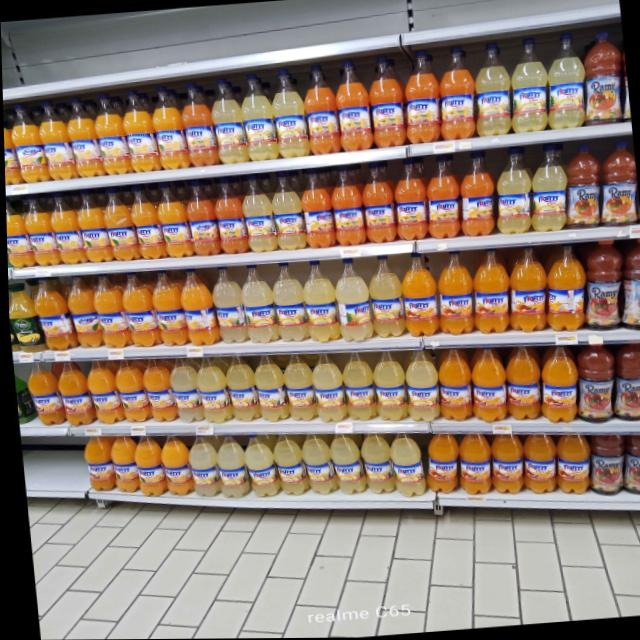ramy_plastique: (574, 236, 629, 335), (576, 26, 628, 127), (568, 337, 622, 428), (557, 141, 608, 235), (503, 37, 550, 135), (541, 35, 589, 129), (432, 47, 479, 140), (594, 139, 638, 230), (470, 43, 512, 138), (541, 245, 586, 333), (331, 58, 372, 153), (502, 249, 547, 335), (431, 251, 474, 339), (300, 60, 339, 156), (523, 148, 567, 233), (490, 149, 532, 238), (467, 253, 512, 336), (270, 65, 309, 160), (453, 152, 496, 238), (399, 53, 439, 145), (367, 59, 407, 149), (397, 253, 438, 339), (331, 257, 372, 343), (210, 76, 248, 166), (420, 156, 460, 241), (240, 74, 278, 162), (535, 347, 578, 424), (580, 432, 627, 502), (365, 256, 404, 340), (299, 259, 338, 343), (149, 84, 186, 170), (359, 162, 397, 245), (179, 81, 216, 166), (389, 160, 427, 242), (500, 349, 542, 423), (65, 95, 101, 181), (605, 335, 640, 423), (121, 89, 157, 174), (92, 92, 128, 176), (328, 167, 365, 247), (269, 263, 305, 345), (466, 352, 507, 424), (210, 267, 246, 347), (180, 268, 216, 347), (240, 265, 275, 346), (299, 171, 335, 249), (240, 176, 276, 254), (433, 354, 473, 423), (156, 182, 190, 261), (40, 99, 73, 180), (400, 355, 438, 425), (150, 272, 184, 350), (271, 173, 304, 251), (368, 356, 406, 423), (214, 179, 246, 257), (122, 276, 156, 348), (34, 278, 68, 350), (102, 188, 135, 262), (420, 434, 460, 495), (518, 435, 558, 496), (453, 434, 492, 496), (76, 190, 108, 265), (186, 182, 218, 256), (93, 276, 125, 350), (388, 434, 424, 499), (129, 185, 160, 260), (15, 105, 45, 182), (157, 432, 192, 498), (49, 194, 81, 266), (309, 360, 344, 424), (486, 436, 523, 496), (85, 360, 118, 427), (212, 435, 246, 500), (339, 359, 374, 422), (131, 431, 164, 497), (112, 360, 146, 424), (186, 433, 219, 498), (56, 360, 88, 427), (358, 434, 392, 497), (241, 435, 274, 499), (553, 436, 588, 496), (327, 432, 360, 495), (195, 364, 229, 425), (269, 434, 301, 498), (253, 362, 286, 424), (69, 277, 97, 350), (24, 197, 53, 267), (142, 358, 172, 425), (167, 358, 197, 425), (300, 433, 331, 497), (26, 364, 56, 428), (282, 362, 313, 423), (82, 433, 113, 493), (225, 362, 256, 422), (108, 433, 138, 493), (5, 196, 27, 269), (616, 431, 640, 497), (3, 108, 14, 186)
tazej_plastique: (7, 284, 38, 356)
